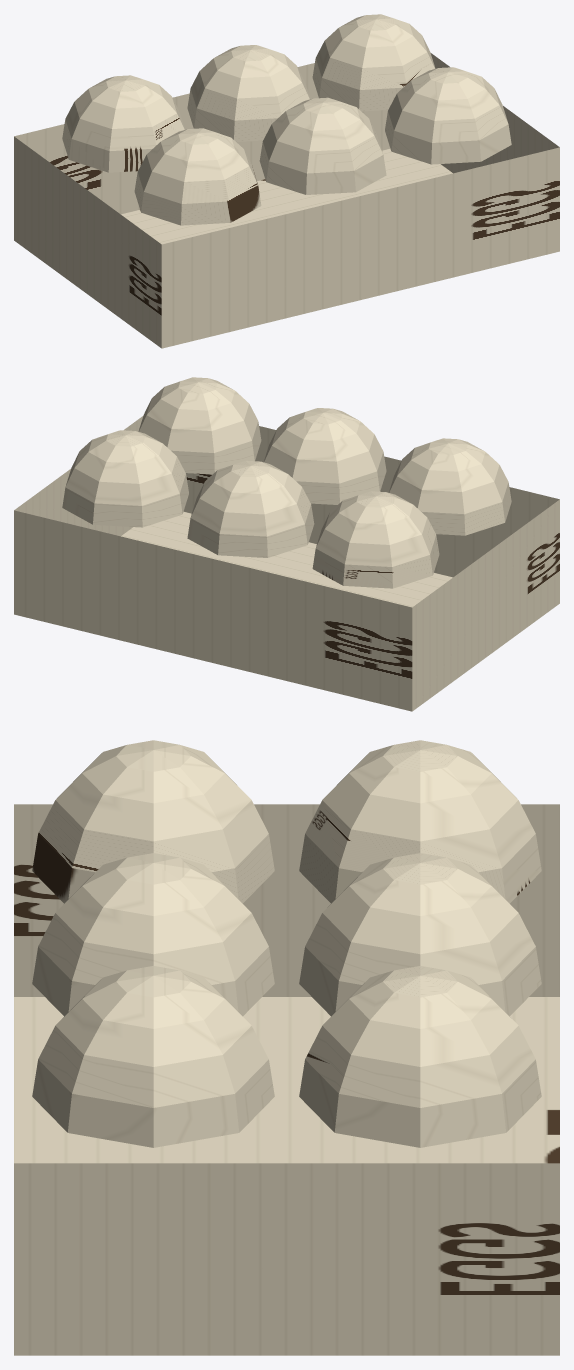
File: fridge_eggs.obj
The picture shows the model from 3 angles, top to bottom: view 1: azimuth 30°, elevation 25°; view 2: azimuth 150°, elevation 25°; view 3: azimuth 270°, elevation 25°; orthographic projection. The views are drawn at different scales.
Visible parts, largest first — view 1: fridge_eggs; view 2: fridge_eggs; view 3: fridge_eggs.
Boxes of the visible parts, <box> form: fridge_eggs: <box>14,14,559,348</box>; fridge_eggs: <box>14,377,559,711</box>; fridge_eggs: <box>14,740,559,1355</box>.
Size of the model in its own units: 0.14 by 0.057 by 0.09.
1 material, 1 textured.
